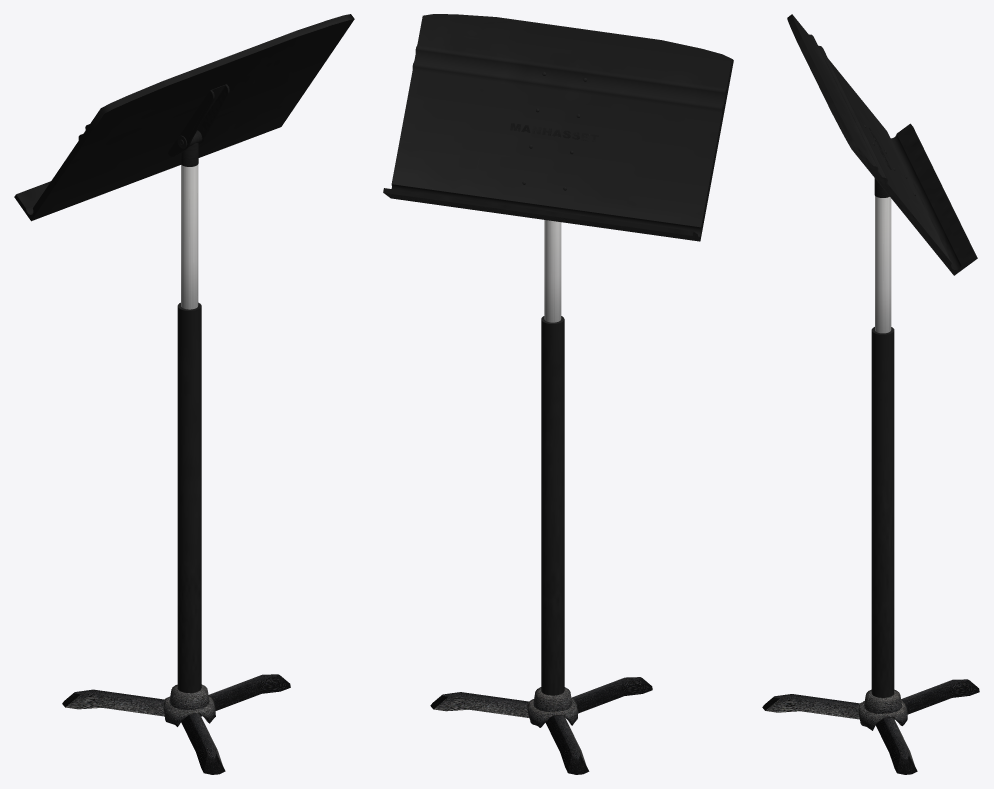
File: manhasset_music_stand.glb
3 renders of one model, left to right at view 1: azimuth 30°, elevation 25°; view 2: azimuth 150°, elevation 25°; view 3: azimuth 270°, elevation 25°, orthographic. The views are drawn at different scales.
Parts seen in each view (by area): view 1: Music_Stand_full; view 2: Music_Stand_full; view 3: Music_Stand_full.
Boxes of the visible parts, bbox=[...] form: Music_Stand_full: bbox=[14, 14, 354, 774]; Music_Stand_full: bbox=[383, 14, 733, 774]; Music_Stand_full: bbox=[762, 14, 979, 774].
Bounding box in the file's own units: 15.06 × 32.06 × 9.69.
Materials: 3 (3 with a texture image).
